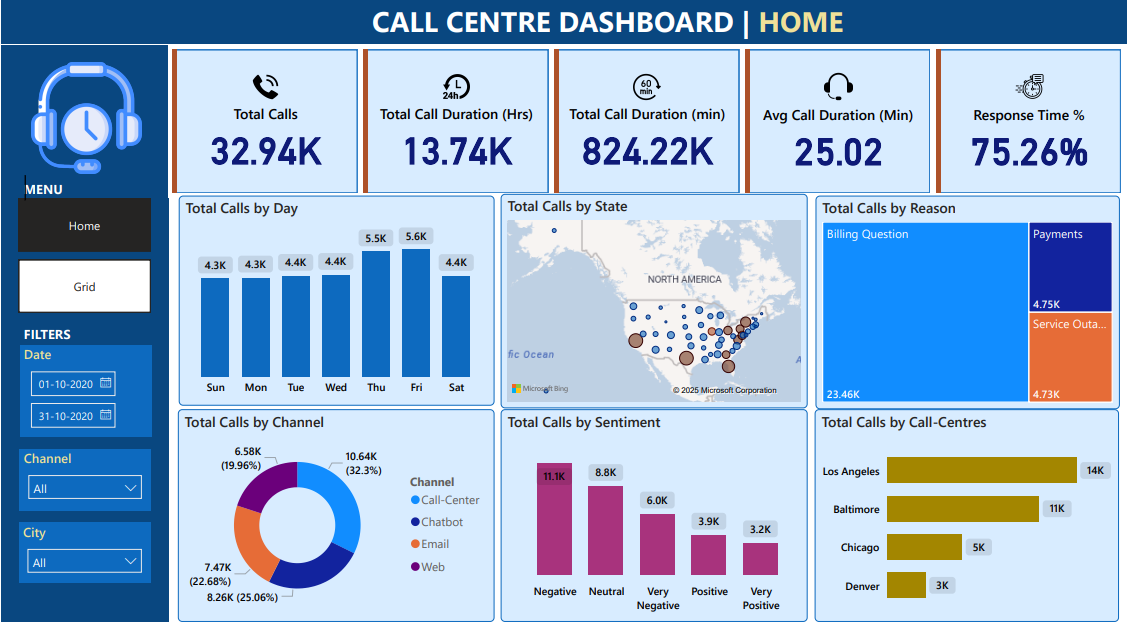

What the dashboard file says about the page in this screenshot:
{"tool":"powerbi","page":{"name":"Home","canvas":[1280,720],"ordinal":0},"visuals":[{"type":"shape","box":[0,13.5,1280.3,50],"z":0},{"type":"shape","box":[0,63.6,189.5,656.7],"z":1000},{"type":"cardVisual","fields":{"Data":["Call Center_Call Center.Total Calls","Call Center_Call Center.Total Call Duration (Hrs)","Call Center_Call Center.Total Call Duration (min)","Call Center_Call Center.Avg Call Duration (Min)","Call Center_Call Center.Response Time %"]},"box":[189.5,63.6,1090.8,173.6],"z":2000},{"type":"textbox","box":[417,8.6,555.2,57.5],"z":3000},{"type":"columnChart","fields":{"Category":["Date Table.Day"],"Y":["Call Center_Call Center.Total Calls"]},"box":[201.8,234.8,359.5,239.7],"z":4000},{"type":"map","fields":{"Category":["Call Center_Call Center.State"],"Size":["Call Center_Call Center.Total Calls"]},"box":[568.1,233.3,349.4,243.5],"z":5000},{"type":"treemap","fields":{"Group":["Call Center_Call Center.Reason"],"Values":["Call Center_Call Center.Total Calls"]},"box":[925.7,234.8,346.1,243.3],"z":6000},{"type":"donutChart","fields":{"Category":["Call Center_Call Center.Channel"],"Y":["Call Center_Call Center.Total Calls"]},"box":[200.6,477.9,360.7,242.3],"z":7000},{"type":"columnChart","fields":{"Category":["Call Center_Call Center.Sentiment"],"Y":["Call Center_Call Center.Total Calls"]},"box":[568.1,477.9,349.4,242.3],"z":8000},{"type":"barChart","fields":{"Category":["Call Center_Call Center.Call-Centres City"],"Y":["Call Center_Call Center.Total Calls"]},"box":[925.4,477.9,346,242.3],"z":9000},{"type":"slicer","title":"Date","fields":{"Values":["Date Table.Date"]},"box":[20.8,404.8,150.4,103.9],"z":10000},{"type":"slicer","title":"Channel","fields":{"Values":["Call Center_Call Center.Channel"]},"box":[20.8,523.4,149.2,69.7],"z":11000},{"type":"slicer","title":"City","fields":{"Values":["Call Center_Call Center.City"]},"box":[19.6,606.5,150.4,69.7],"z":12000},{"type":"image","box":[29.3,63.6,135.7,165.1],"z":13000},{"type":"pageNavigator","box":[19.6,238.5,150.4,130.8],"z":14000},{"type":"textbox","box":[20.8,211.6,74.6,35.5],"z":15000},{"type":"textbox","box":[20.8,376.6,90.5,31.8],"z":16000}]}

Visuals, with their boxes in screenshot pixels (x1, y1, x2, y2), scaled from the page's 1280x720 canvas onto the 1128x623 screenshot:
shape: box(0, 12, 1127, 55)
shape: box(0, 55, 167, 622)
cardVisual - Call Center_Call Center.Total Calls x Call Center_Call Center.Total Call Duration (Hrs): box(167, 55, 1127, 205)
textbox: box(367, 7, 857, 57)
columnChart - Date Table.Day x Call Center_Call Center.Total Calls: box(178, 203, 495, 411)
map - Call Center_Call Center.State x Call Center_Call Center.Total Calls: box(501, 202, 809, 413)
treemap - Call Center_Call Center.Reason x Call Center_Call Center.Total Calls: box(816, 203, 1121, 414)
donutChart - Call Center_Call Center.Channel x Call Center_Call Center.Total Calls: box(177, 414, 495, 622)
columnChart - Call Center_Call Center.Sentiment x Call Center_Call Center.Total Calls: box(501, 414, 809, 622)
barChart - Call Center_Call Center.Call-Centres City x Call Center_Call Center.Total Calls: box(816, 414, 1120, 622)
"Date" slicer: box(18, 350, 151, 440)
"Channel" slicer: box(18, 453, 150, 513)
"City" slicer: box(17, 525, 150, 585)
image: box(26, 55, 145, 198)
pageNavigator: box(17, 206, 150, 320)
textbox: box(18, 183, 84, 214)
textbox: box(18, 326, 98, 353)
